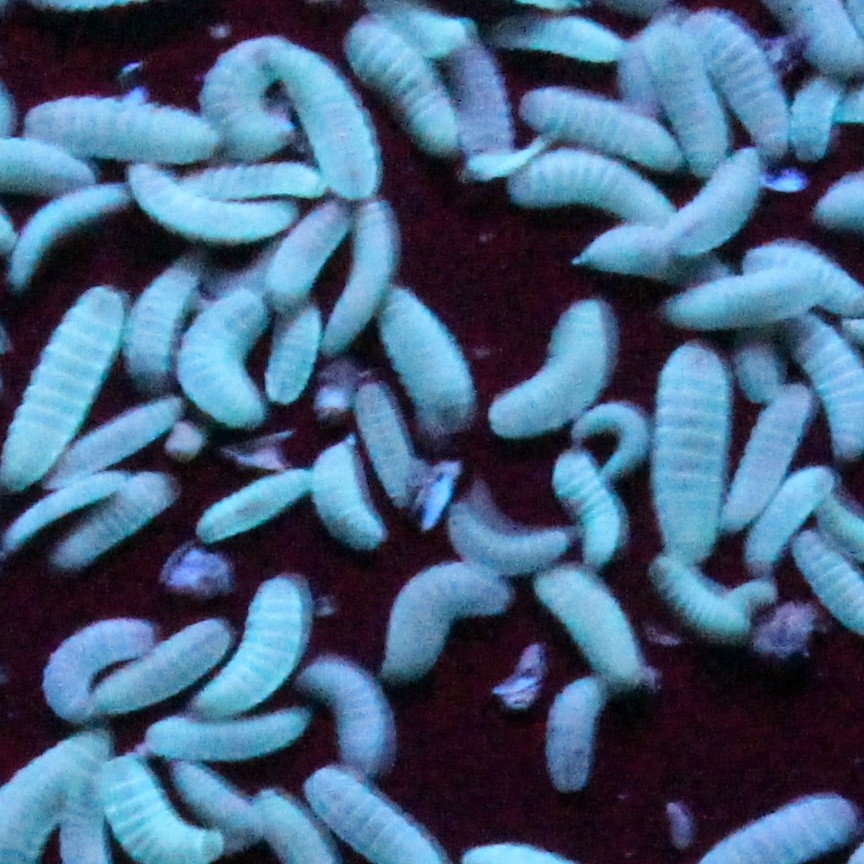larve: (0, 272, 122, 488), (581, 150, 764, 263), (258, 36, 382, 200), (364, 274, 484, 434), (200, 572, 314, 716), (654, 348, 729, 560), (344, 33, 474, 153), (530, 562, 652, 688), (494, 298, 614, 425), (691, 15, 796, 158), (176, 282, 274, 430), (641, 530, 764, 643), (509, 150, 681, 230), (521, 90, 689, 168), (394, 566, 514, 674), (132, 170, 302, 246), (326, 194, 400, 368), (28, 94, 216, 162), (444, 496, 582, 586), (48, 478, 172, 578), (200, 42, 306, 158), (721, 388, 806, 530), (96, 620, 226, 712), (41, 619, 155, 723), (124, 244, 200, 398), (302, 658, 394, 780), (50, 398, 178, 484), (646, 38, 734, 158), (304, 434, 390, 556), (538, 678, 614, 798), (142, 706, 312, 759), (2, 472, 132, 538), (358, 380, 420, 512), (196, 474, 308, 546), (449, 30, 509, 163), (178, 764, 266, 842), (681, 270, 806, 323), (190, 154, 334, 200), (581, 395, 654, 478), (739, 348, 789, 413)
